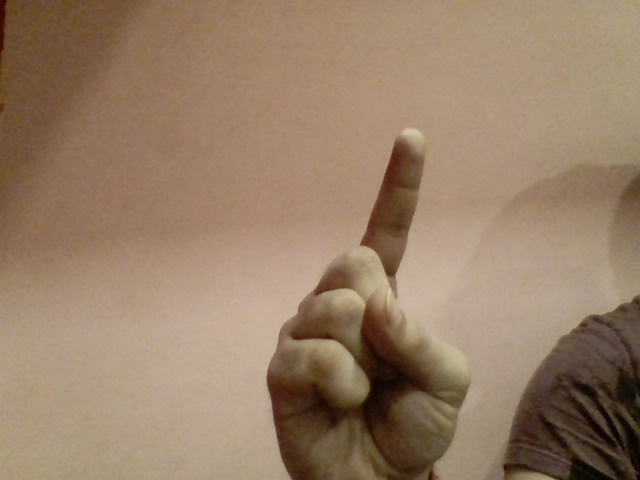z: (260, 115, 497, 480)
